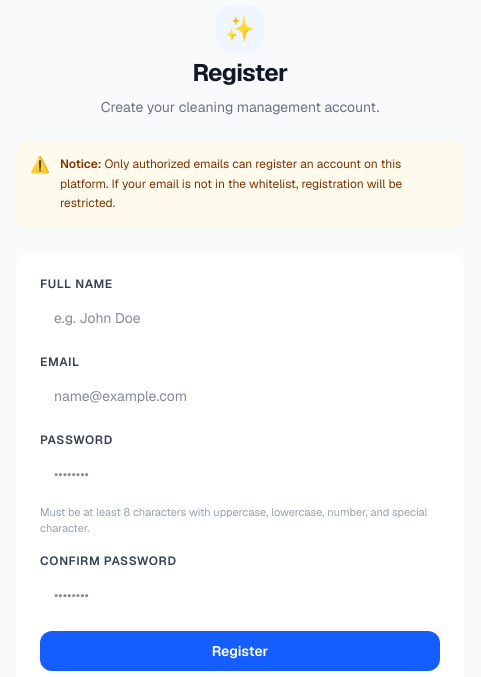
Scenario: RegisterPage Component › should display validation errors when submitting invalid empty form
The image size is (481, 677).
Click the button "Register": (240, 650) x1=40 y1=630 x2=440 y2=670
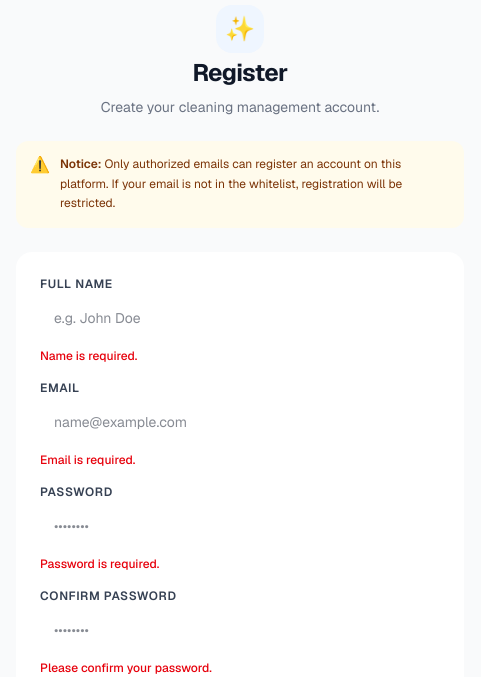
Expected: the text "Name is required." is shown, x1=40 y1=348 x2=137 y2=364
Expected: the text "Email is required." is shown, x1=40 y1=452 x2=135 y2=468
Expected: the text "Password is required." is shown, x1=40 y1=556 x2=159 y2=572
